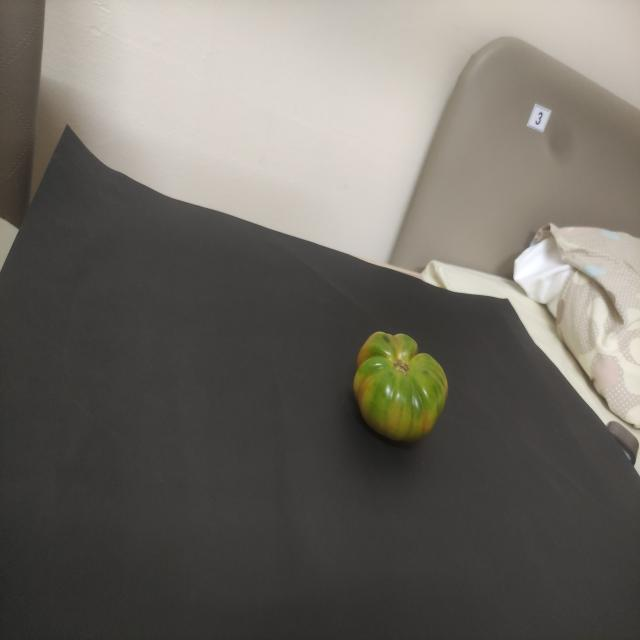yesil: (338, 327, 466, 442)
